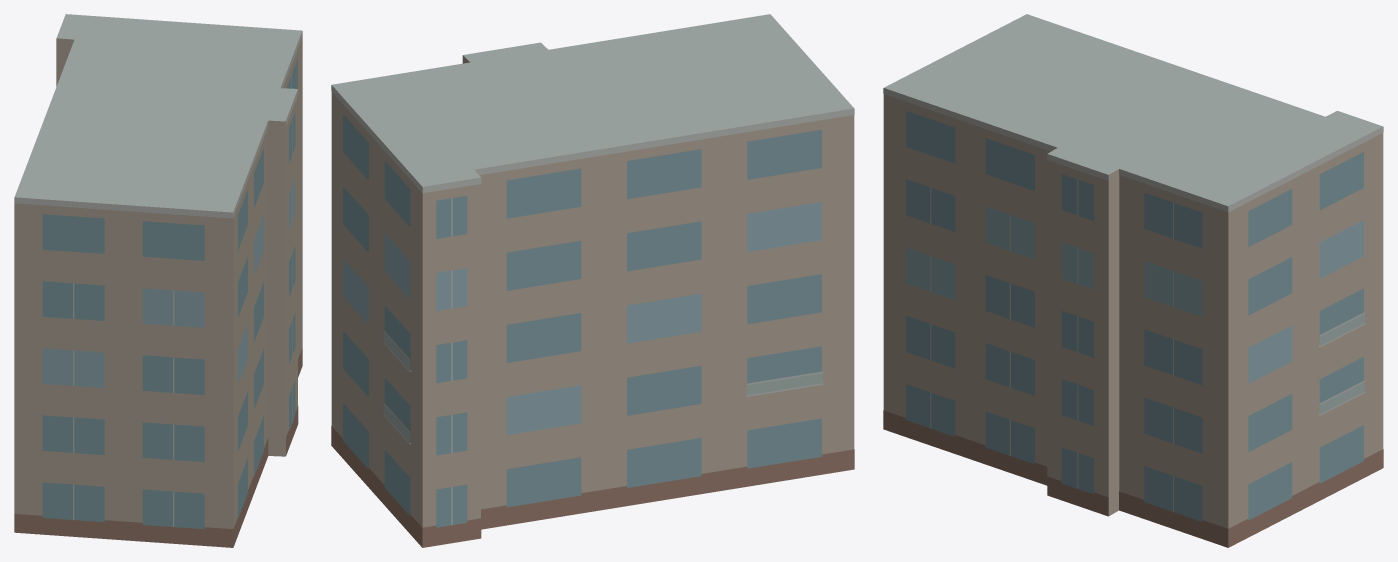
The model's file is survey-upis-32712346.glb.
3 views of the same model, side by side, from view 1: azimuth 30°, elevation 25°; view 2: azimuth 150°, elevation 25°; view 3: azimuth 270°, elevation 25° (orthographic). The views are drawn at different scales.
Parts seen in each view (by area): view 1: survey-upis-32712346.tmp; view 2: survey-upis-32712346.tmp; view 3: survey-upis-32712346.tmp.
Part boxes in pixels (x1,y1,x2,y2): survey-upis-32712346.tmp: (14,14,302,547); survey-upis-32712346.tmp: (331,14,854,547); survey-upis-32712346.tmp: (883,14,1383,547).
Bounding box in the file's own units: 16.47 × 13.63 × 18.09.
